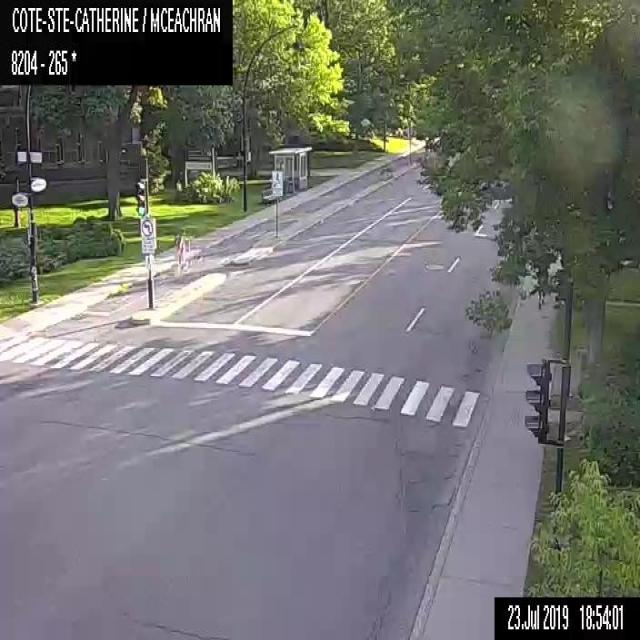pedestrian: (173, 226, 189, 274)
